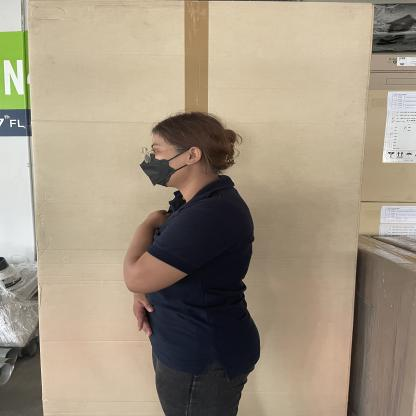Sadness: (116, 201, 197, 291)
